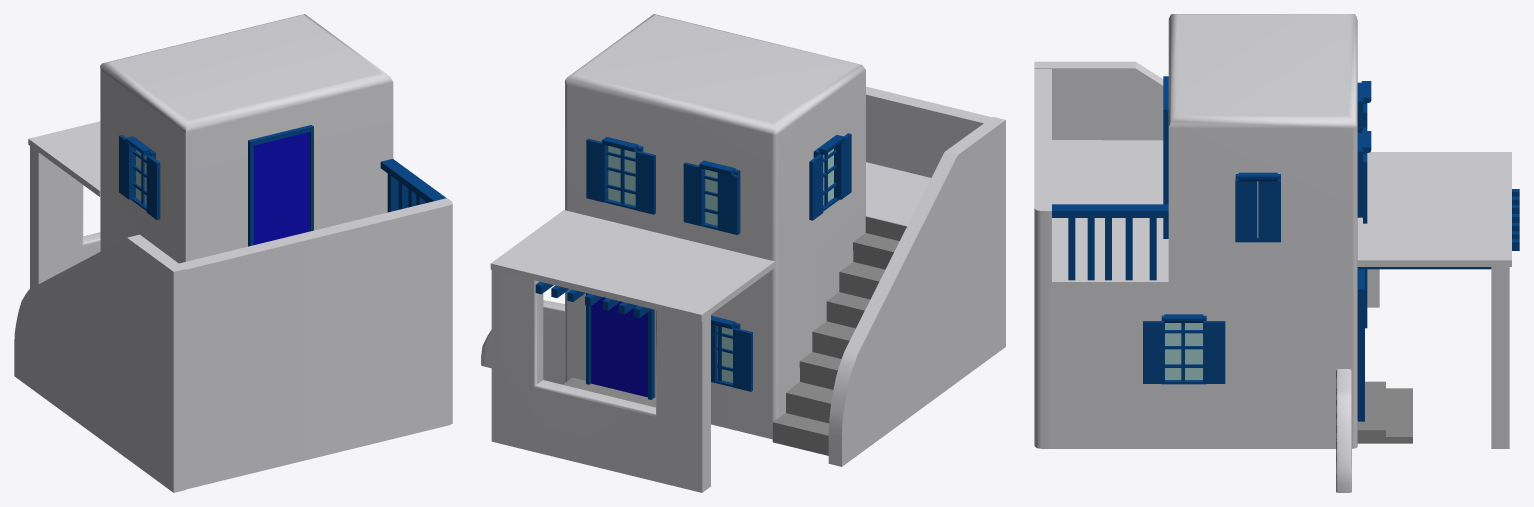
File: House01.fbx
3 views of the same model, side by side, from view 1: azimuth 30°, elevation 25°; view 2: azimuth 150°, elevation 25°; view 3: azimuth 270°, elevation 25° (orthographic). The views are drawn at different scales.
Visible parts, largest first — view 1: House, Door2, Window15; view 2: House, House_1_Door, Window13, Window14, Window15, Window16; view 3: House, Window11, Window12, House_1_Door, Window13, Door2, Window14.
Part boxes in pixels (left/top/right/bottom): House: left=14, top=14, right=452, bottom=492; Door2: left=248, top=125, right=313, bottom=246; Window15: left=119, top=135, right=160, bottom=219; House: left=481, top=14, right=1005, bottom=492; House_1_Door: left=586, top=293, right=654, bottom=399; Window13: left=586, top=137, right=655, bottom=214; Window14: left=683, top=160, right=740, bottom=234; Window15: left=809, top=133, right=851, bottom=220; Window16: left=711, top=315, right=752, bottom=391; House: left=1034, top=14, right=1519, bottom=492; Window11: left=1143, top=314, right=1225, bottom=384; Window12: left=1235, top=172, right=1280, bottom=242; House_1_Door: left=1357, top=269, right=1364, bottom=421; Window13: left=1357, top=127, right=1371, bottom=223; Door2: left=1163, top=76, right=1168, bottom=238; Window14: left=1357, top=81, right=1371, bottom=132.
Bounding box in the file's own units: 20.09 × 16.03 × 21.39.
